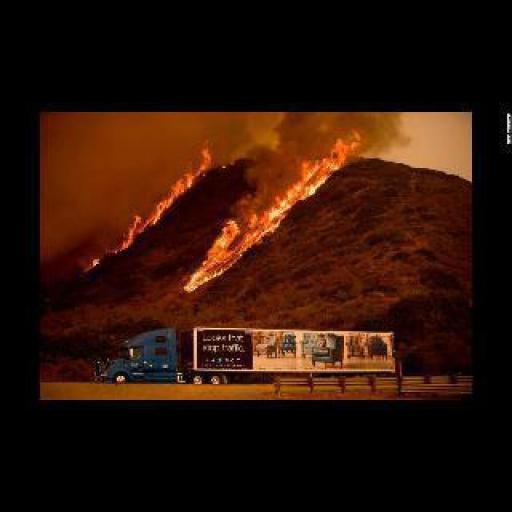smoke: (122, 130, 364, 290)
